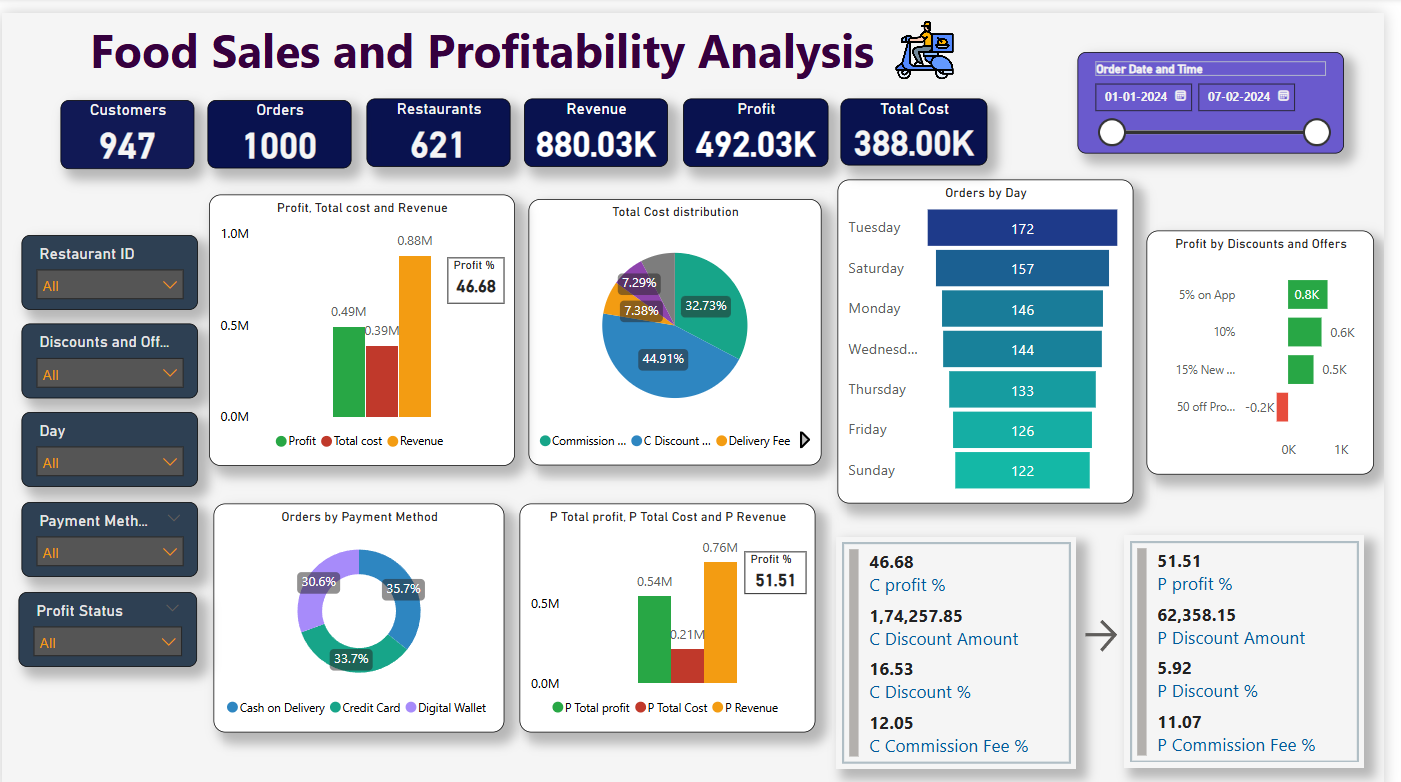

This screenshot's page, from the dashboard's own definition file:
{"tool":"powerbi","page":{"name":"Food Sales","canvas":[1280,720],"ordinal":0},"visuals":[{"type":"card","title":"Restaurants","fields":{"Values":["Count(food_sales 2.Restaurant ID)"]},"box":[337.9,79.5,133.3,63.6],"z":0},{"type":"card","title":"Customers","fields":{"Values":["Count(food_sales 2.Customer ID)"]},"box":[54.1,80.6,124,64.3],"z":0,"group":"g3"},{"type":"card","title":"Revenue","fields":{"Values":["Sum(food_sales 2.C Total Cost)"]},"box":[483,78.7,133.3,63.6],"z":1000},{"type":"pieChart","title":"Total Cost distribution","fields":{"Y":["Sum(food_sales 2.Commission Fee)","Sum(food_sales 2.C Discount Amount)","Sum(food_sales 2.Delivery Fee)","Sum(food_sales 2.Refunds/Chargebacks)","Sum(food_sales 2.Payment Processing Fee)"]},"box":[487.6,172.6,271,246.8],"z":2000},{"type":"slicer","fields":{"Values":["food_sales 2.Restaurant ID"]},"box":[18.7,206,163.5,69.7],"z":3000},{"type":"slicer","fields":{"Values":["food_sales 2.Discounts and Offers"]},"box":[18.2,287.7,163.5,69.7],"z":4000},{"type":"slicer","fields":{"Values":["food_sales 2.Day"]},"box":[18.2,369.5,163.5,69.7],"z":5000},{"type":"card","title":"Profit","fields":{"Values":["Sum(food_sales 2.C Profit)"]},"box":[629.9,78.7,134.8,63.6],"z":6000},{"type":"funnel","title":"Orders by Day","fields":{"Category":["food_sales 2.Day"],"Y":["CountNonNull(food_sales 2.Order ID)"]},"box":[773.8,154.4,274.1,299.8],"z":7000},{"type":"card","title":"Total Cost","fields":{"Values":["Sum(food_sales 2.C Total Revenue)"]},"box":[776.2,78.7,136.3,62.1],"z":8000,"group":"g4"},{"type":"slicer","fields":{"Values":["food_sales 2.Payment Method"]},"box":[18.2,452.7,163.5,69.7],"z":8000},{"type":"donutChart","title":"Orders by Payment Method","fields":{"Category":["food_sales 2.Payment Method"],"Y":["CountNonNull(food_sales 2.Order ID)"]},"box":[195.3,454.3,269.5,212],"z":9000},{"type":"textbox","box":[75.7,0,822.2,68.1],"z":10000},{"type":"group","id":"g1","title":"Group 1","box":[479.6,454.3,274.1,212],"z":11000},{"type":"group","id":"g2","title":"Group 2","box":[191.3,168.1,283.2,251.4],"z":12000},{"type":"clusteredBarChart","title":"Profit by Discounts and Offers","fields":{"Category":["food_sales 2.Discounts and Offers"],"Y":["Avg(food_sales 2.C Profit)"]},"box":[1059.4,201.1,210.8,225.9],"z":13000},{"type":"group","id":"g3","title":"Group 3","box":[54.1,80.6,124.2,65.1],"z":14000},{"type":"clusteredColumnChart","fields":{"Y":["Sum(food_sales 2.C Profit)","Sum(food_sales 2.C Total cost)","Sum(food_sales 2.C Total Revenue)"]},"box":[191.3,168.1,283.2,251.4],"z":14000,"group":"g5"},{"type":"slicer","fields":{"Values":["food_sales 2.Profit Status"]},"box":[15.1,536,165,69.7],"z":15000},{"type":"group","id":"g4","title":"Group 6","box":[776.2,78.7,136.3,62.1],"z":16000},{"type":"image","box":[820.7,0,66.6,68.1],"z":17000},{"type":"multiRowCard","fields":{"Values":["food_sales 2.P profit %","food_sales 2.P Discount Amount","food_sales 2.P Discount %","food_sales 2.P Commission Fee %"]},"box":[1039.3,483.1,222.6,215],"z":18000},{"type":"multiRowCard","fields":{"Values":["food_sales 2.C profit %","Sum(food_sales 2.C Discount Amount)","food_sales 2.C Discount %","food_sales 2.C Commission Fee %"]},"box":[772.8,484.6,222.6,215],"z":19000},{"type":"clusteredColumnChart","fields":{"Y":["Sum(food_sales 2.P Total profit)","food_sales 2.P Total Cost","food_sales 2.P Revenue"]},"box":[479.6,454.3,274.1,212],"z":20000,"group":"g6"},{"type":"actionButton","box":[997.9,557.2,40.9,39.4],"z":20000},{"type":"card","title":"Orders","fields":{"Values":["CountNonNull(food_sales 2.Order ID)"]},"box":[190.4,80.6,133.3,63.6],"z":21000},{"type":"group","id":"g5","title":"Group 7","box":[191.3,168.1,283.2,251.4],"z":21003,"group":"g2"},{"type":"slicer","fields":{"Values":["food_sales 2.Order Date and Time"]},"box":[996,35.8,246.6,93.7],"z":22000},{"type":"card","title":"Profit %","fields":{"Values":["food_sales 2.C profit %"]},"box":[411.9,227,53,42.4],"z":23000,"group":"g5"},{"type":"group","id":"g6","title":"Group 5","box":[479.6,454.3,274.1,212],"z":23004,"group":"g1"},{"type":"card","title":"Profit %","fields":{"Values":["food_sales 2.P profit %"]},"box":[688.6,499.2,57.5,39.3],"z":24500,"group":"g6"}]}

Visuals, with their boxes in screenshot pixels (x1, y1, x2, y2), scaled from the page's 1280x720 canvas onto the 1401x782 screenshot:
"Restaurants" card: <box>370,86,516,155</box>
"Customers" card: <box>59,88,195,157</box>
"Revenue" card: <box>529,85,675,155</box>
"Total Cost distribution" pieChart: <box>534,187,830,456</box>
slicer - food_sales 2.Restaurant ID: <box>20,224,199,299</box>
slicer - food_sales 2.Discounts and Offers: <box>20,312,199,388</box>
slicer - food_sales 2.Day: <box>20,401,199,477</box>
"Profit" card: <box>689,85,837,155</box>
"Orders by Day" funnel: <box>847,168,1147,493</box>
"Total Cost" card: <box>850,85,999,153</box>
slicer - food_sales 2.Payment Method: <box>20,492,199,567</box>
"Orders by Payment Method" donutChart: <box>214,493,509,724</box>
textbox: <box>83,0,983,74</box>
"Group 1" group: <box>525,493,825,724</box>
"Group 2" group: <box>209,183,519,456</box>
"Profit by Discounts and Offers" clusteredBarChart: <box>1160,218,1390,464</box>
"Group 3" group: <box>59,88,195,158</box>
clusteredColumnChart - Sum(food_sales 2.C Profit) x Sum(food_sales 2.C Total cost): <box>209,183,519,456</box>
slicer - food_sales 2.Profit Status: <box>17,582,197,658</box>
"Group 6" group: <box>850,85,999,153</box>
image: <box>898,0,971,74</box>
multiRowCard - food_sales 2.P profit % x food_sales 2.P Discount Amount: <box>1138,525,1381,758</box>
multiRowCard - food_sales 2.C profit % x Sum(food_sales 2.C Discount Amount): <box>846,526,1089,760</box>
clusteredColumnChart - Sum(food_sales 2.P Total profit) x food_sales 2.P Total Cost: <box>525,493,825,724</box>
actionButton: <box>1092,605,1137,648</box>
"Orders" card: <box>208,88,354,157</box>
"Group 7" group: <box>209,183,519,456</box>
slicer - food_sales 2.Order Date and Time: <box>1090,39,1360,141</box>
"Profit %" card: <box>451,247,509,293</box>
"Group 5" group: <box>525,493,825,724</box>
"Profit %" card: <box>754,542,817,585</box>
